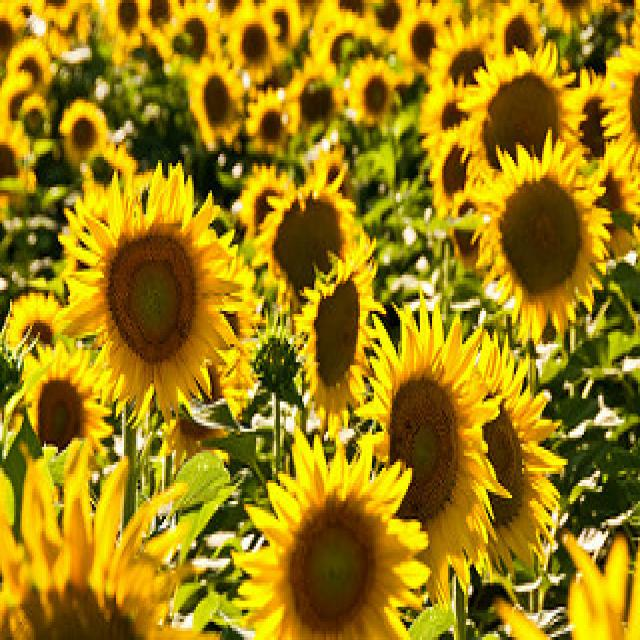sunflower: (61, 165, 243, 421), (367, 300, 487, 596), (250, 440, 420, 638), (470, 142, 614, 329), (459, 323, 561, 574), (296, 238, 388, 434), (463, 54, 593, 190), (263, 169, 367, 317), (22, 342, 104, 470), (344, 51, 402, 139), (187, 51, 239, 148), (63, 100, 109, 169)
